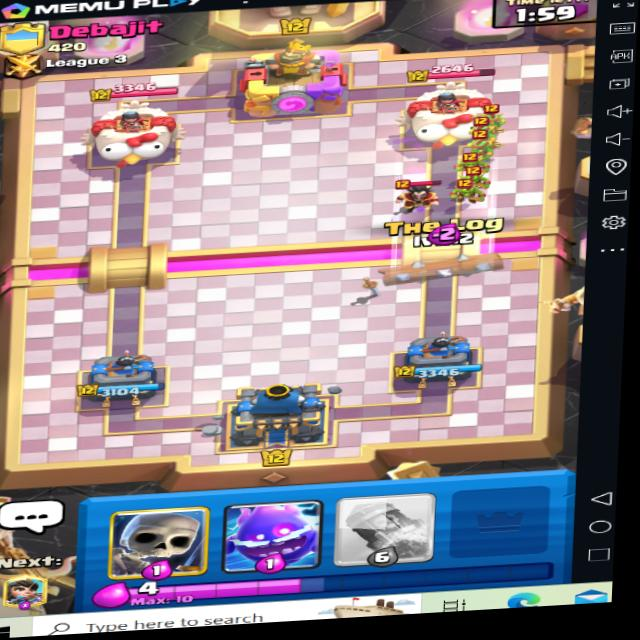electro-wizard: (392, 172, 439, 220)
goblin: (441, 177, 488, 214), (456, 163, 492, 190), (458, 150, 494, 176)
spear-goblin: (472, 109, 516, 137), (462, 117, 503, 144), (464, 133, 496, 163)
